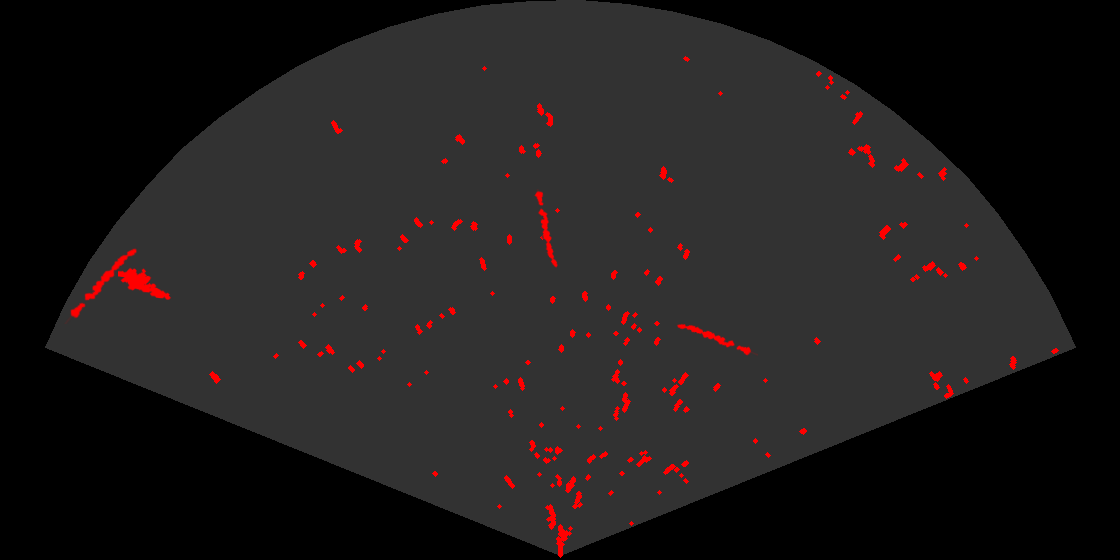chain: (63, 247, 139, 324), (675, 322, 758, 357), (533, 189, 559, 269)
frogman: (118, 266, 173, 301)
